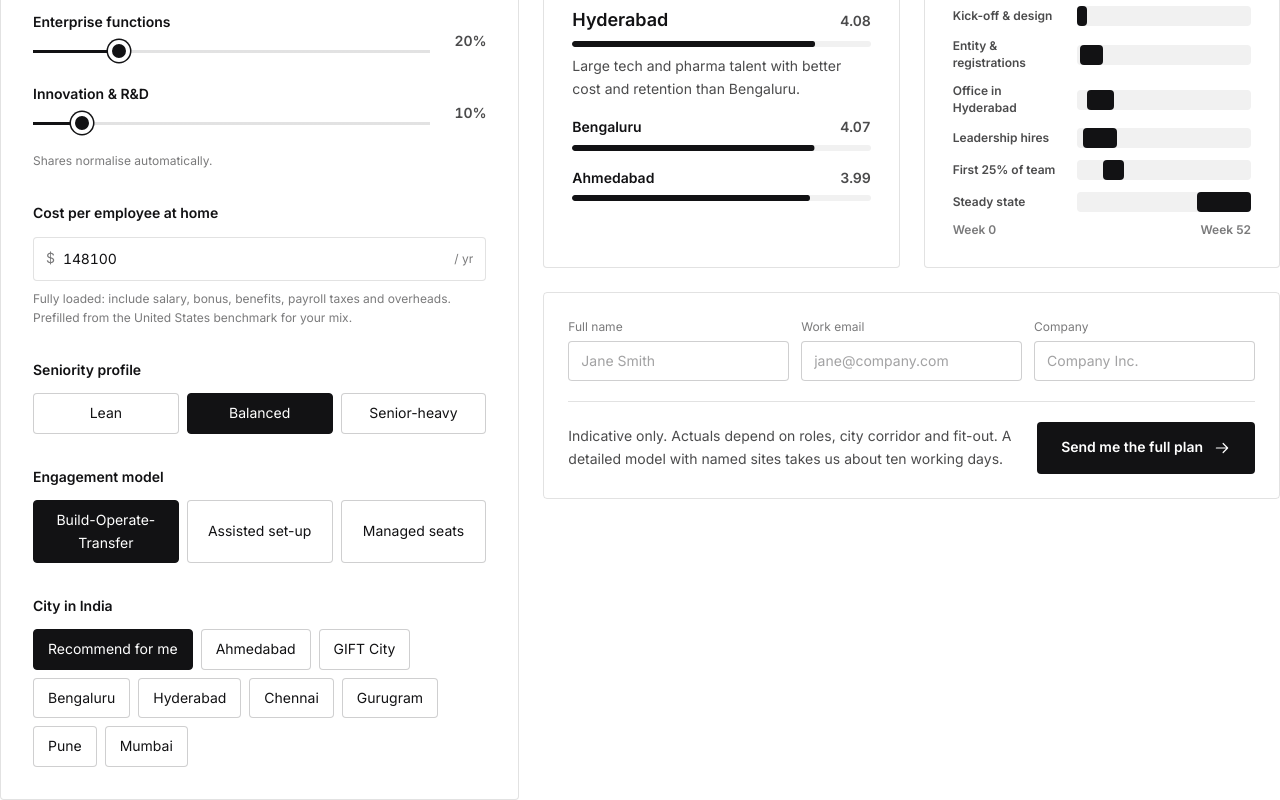
Scenario: CostCalculator (GCC Planner) › the plan form requires full name, work email and company
The width and height of the screenshot is (1280, 800).
(page scrolled)
Click the button "Send me the full plan →" at {"x": 1146, "y": 448}, box [1037,422,1255,474]
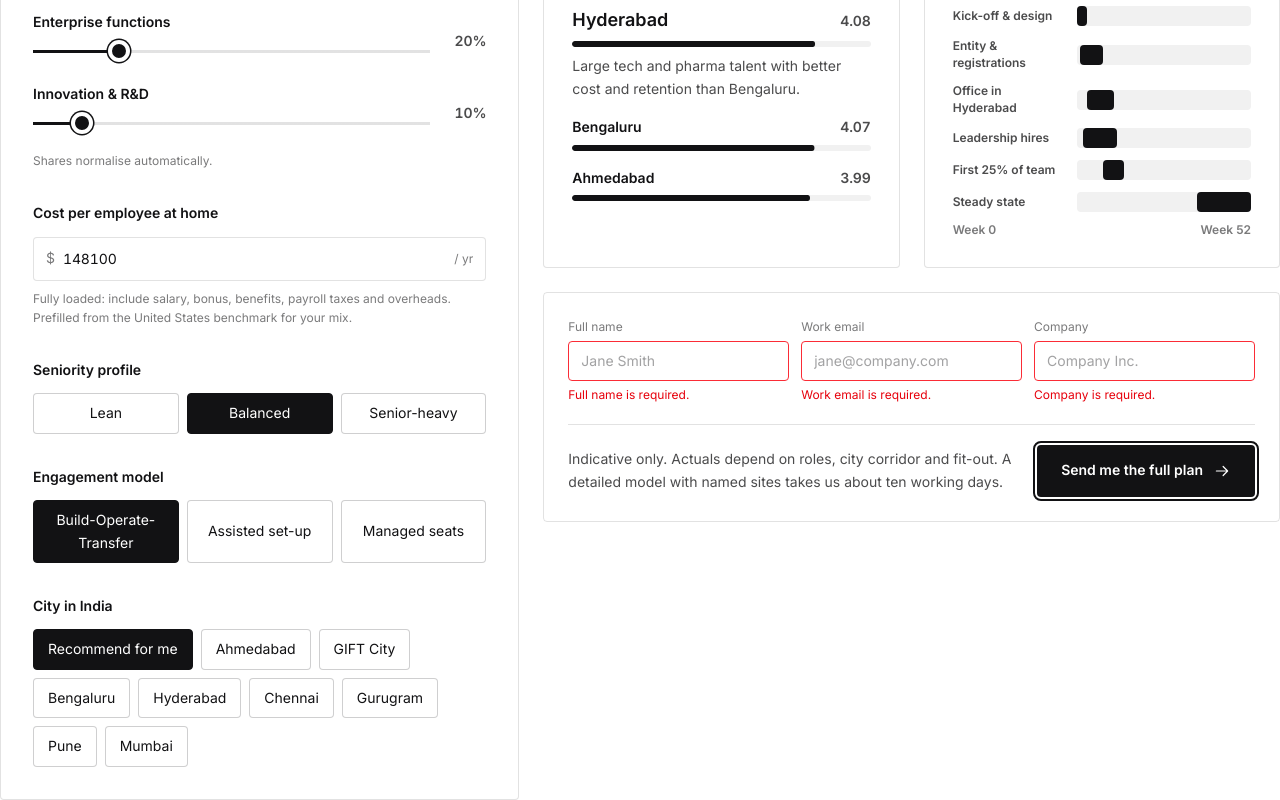
Expected: the text "Full name is required." is shown, [568,386,689,402]
Expected: the text "Work email is required." is shown, [801,386,931,402]
Expected: the text "Company is required." is shown, [1034,386,1155,402]
Type "not-an-email" into the field labelled "Work email Work email is required." at {"x": 912, "y": 360}, box [801,340,1022,380]
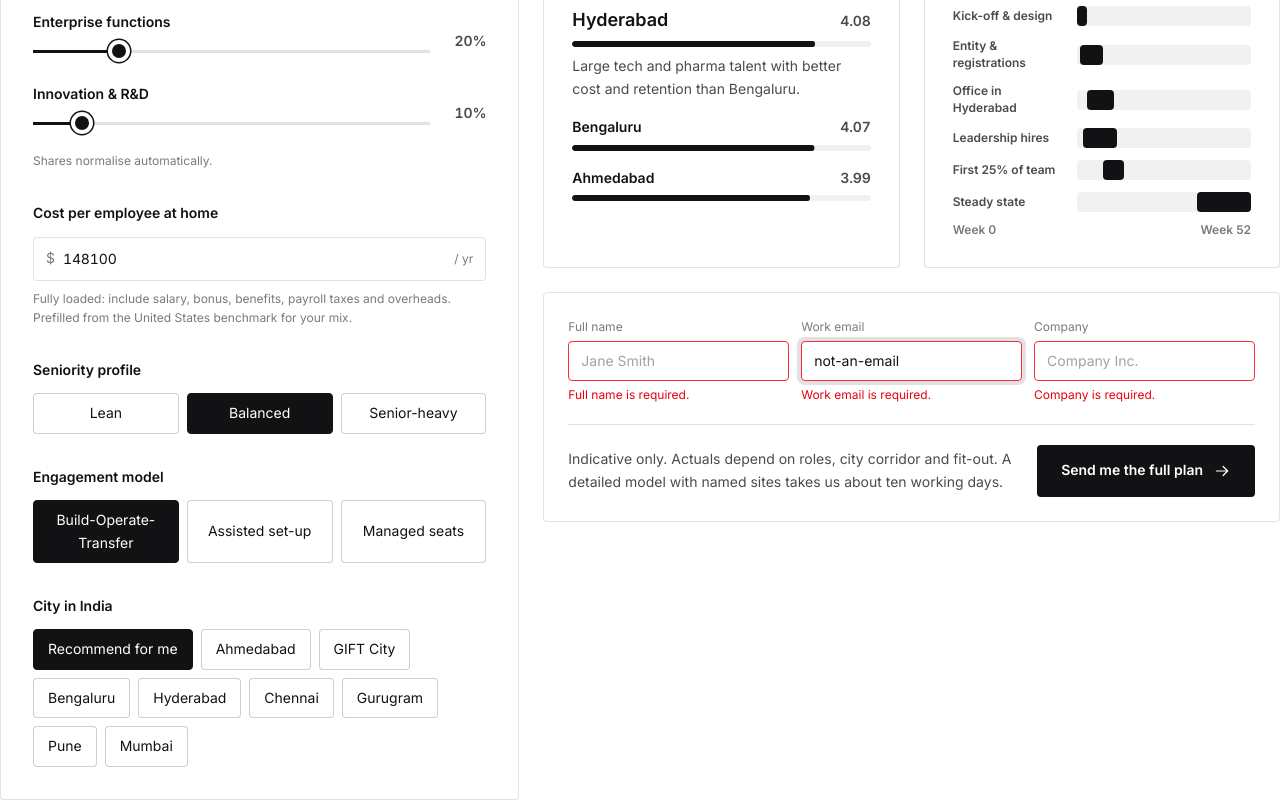
Click the button "Send me the full plan →" at {"x": 1146, "y": 471}, box [1037,445,1255,497]
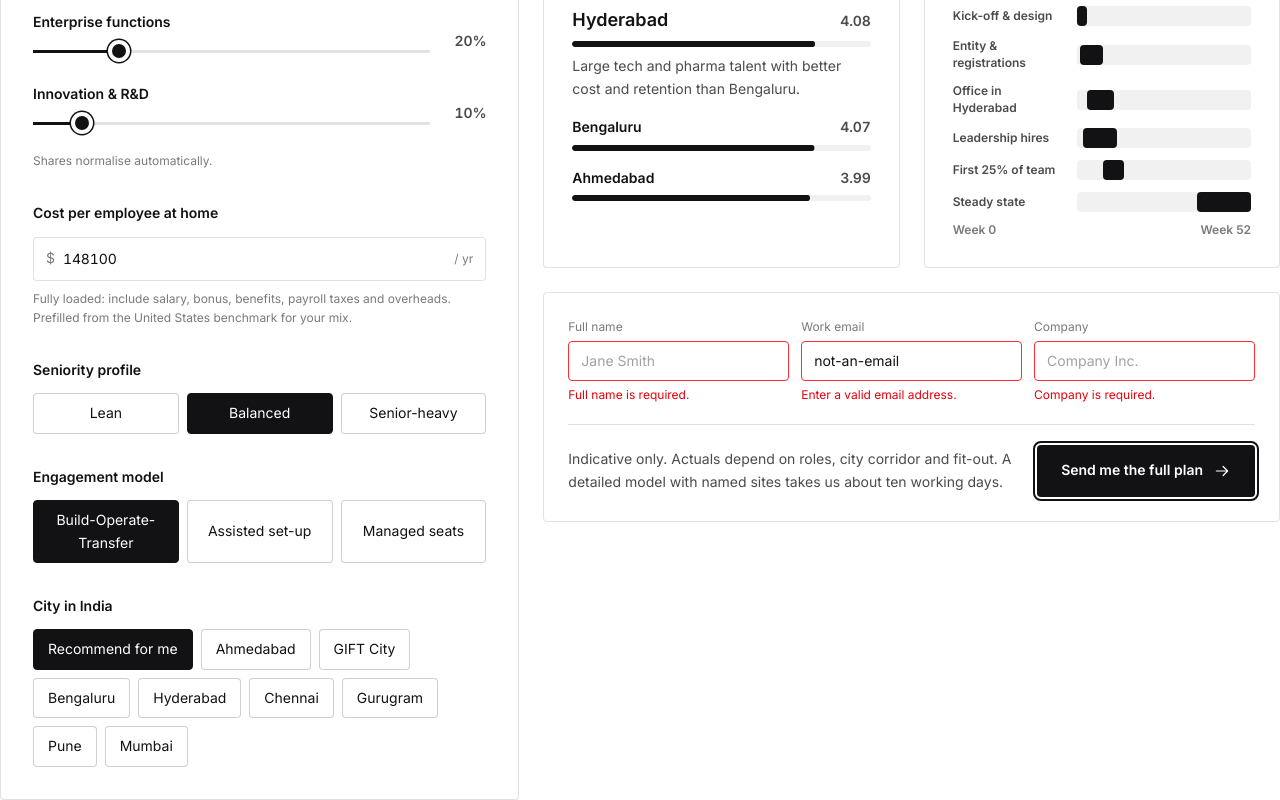
Expected: the text "Enter a valid email address." is shown, [801,386,957,402]
